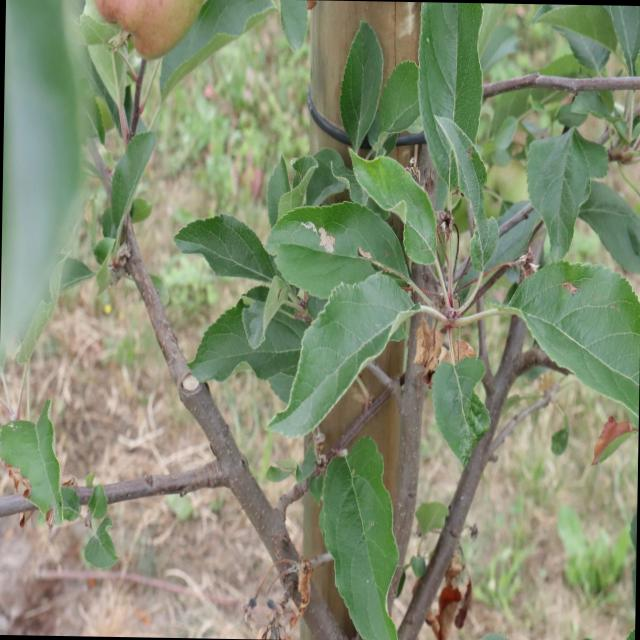-FireBlight-: (392, 300, 488, 383), (434, 562, 482, 632), (282, 556, 322, 622)
